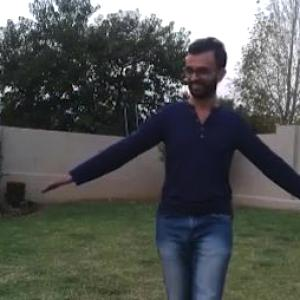land: (46, 34, 299, 299)
